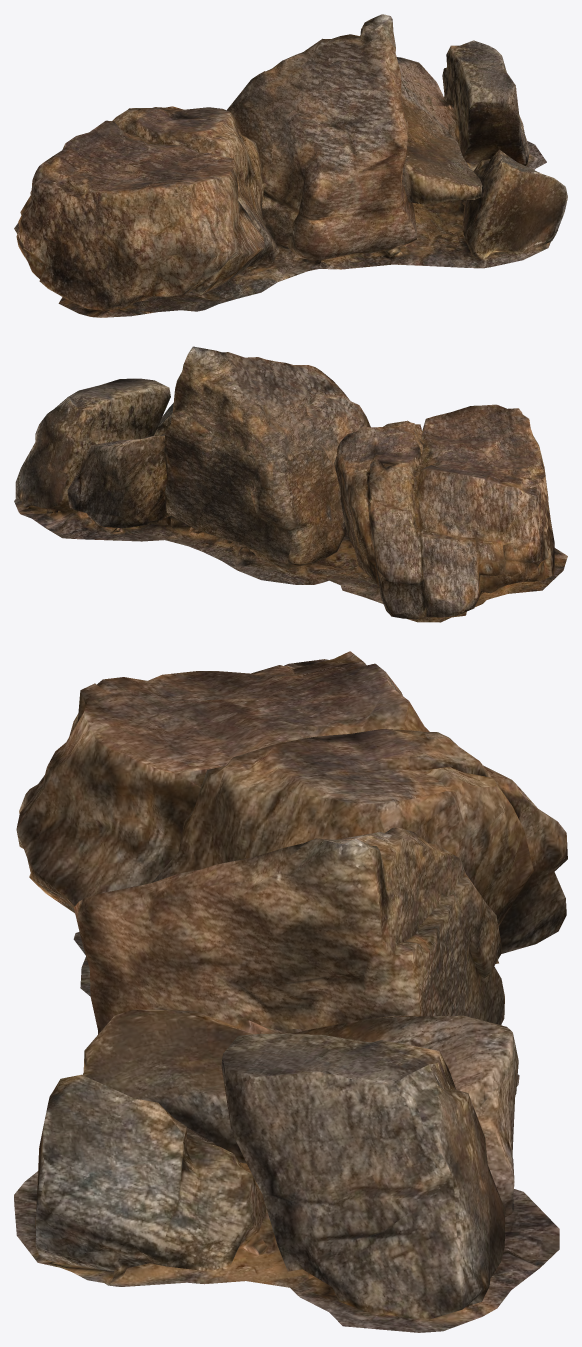
Rendered from namaqualand_boulder_02.glb.
The picture shows the model from 3 angles, top to bottom: view 1: azimuth 30°, elevation 25°; view 2: azimuth 150°, elevation 25°; view 3: azimuth 270°, elevation 25°; orthographic projection. The views are drawn at different scales.
Visible parts, largest first — view 1: boulder_02; view 2: boulder_02; view 3: boulder_02.
Boxes of the visible parts, box(x1,y1,x2,y2) form: boulder_02: box(14, 14, 567, 317); boulder_02: box(14, 346, 567, 622); boulder_02: box(14, 651, 567, 1332).
Size of the model in its own units: 2.52 by 0.8804 by 1.23.
Materials: 1 (1 with a texture image).
